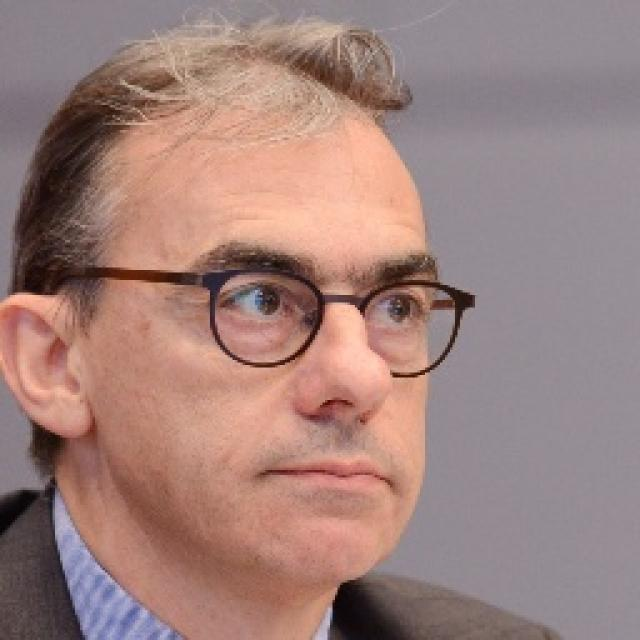earlobe: (0, 293, 94, 437)
